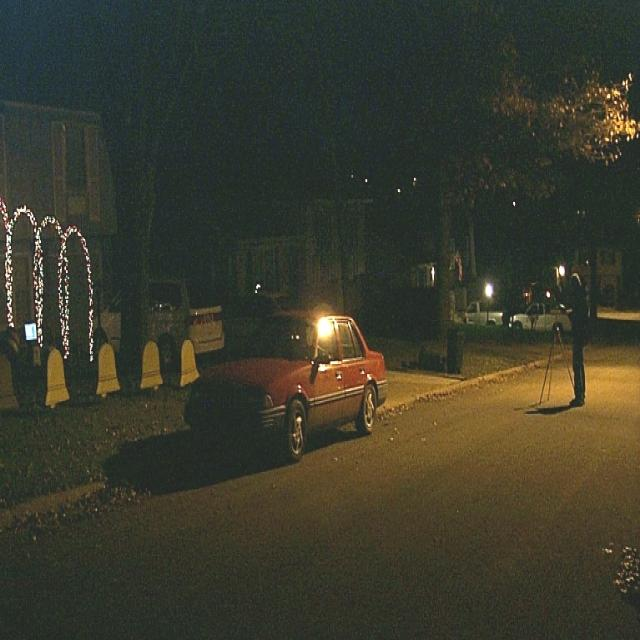Car: (186, 312, 388, 458)
